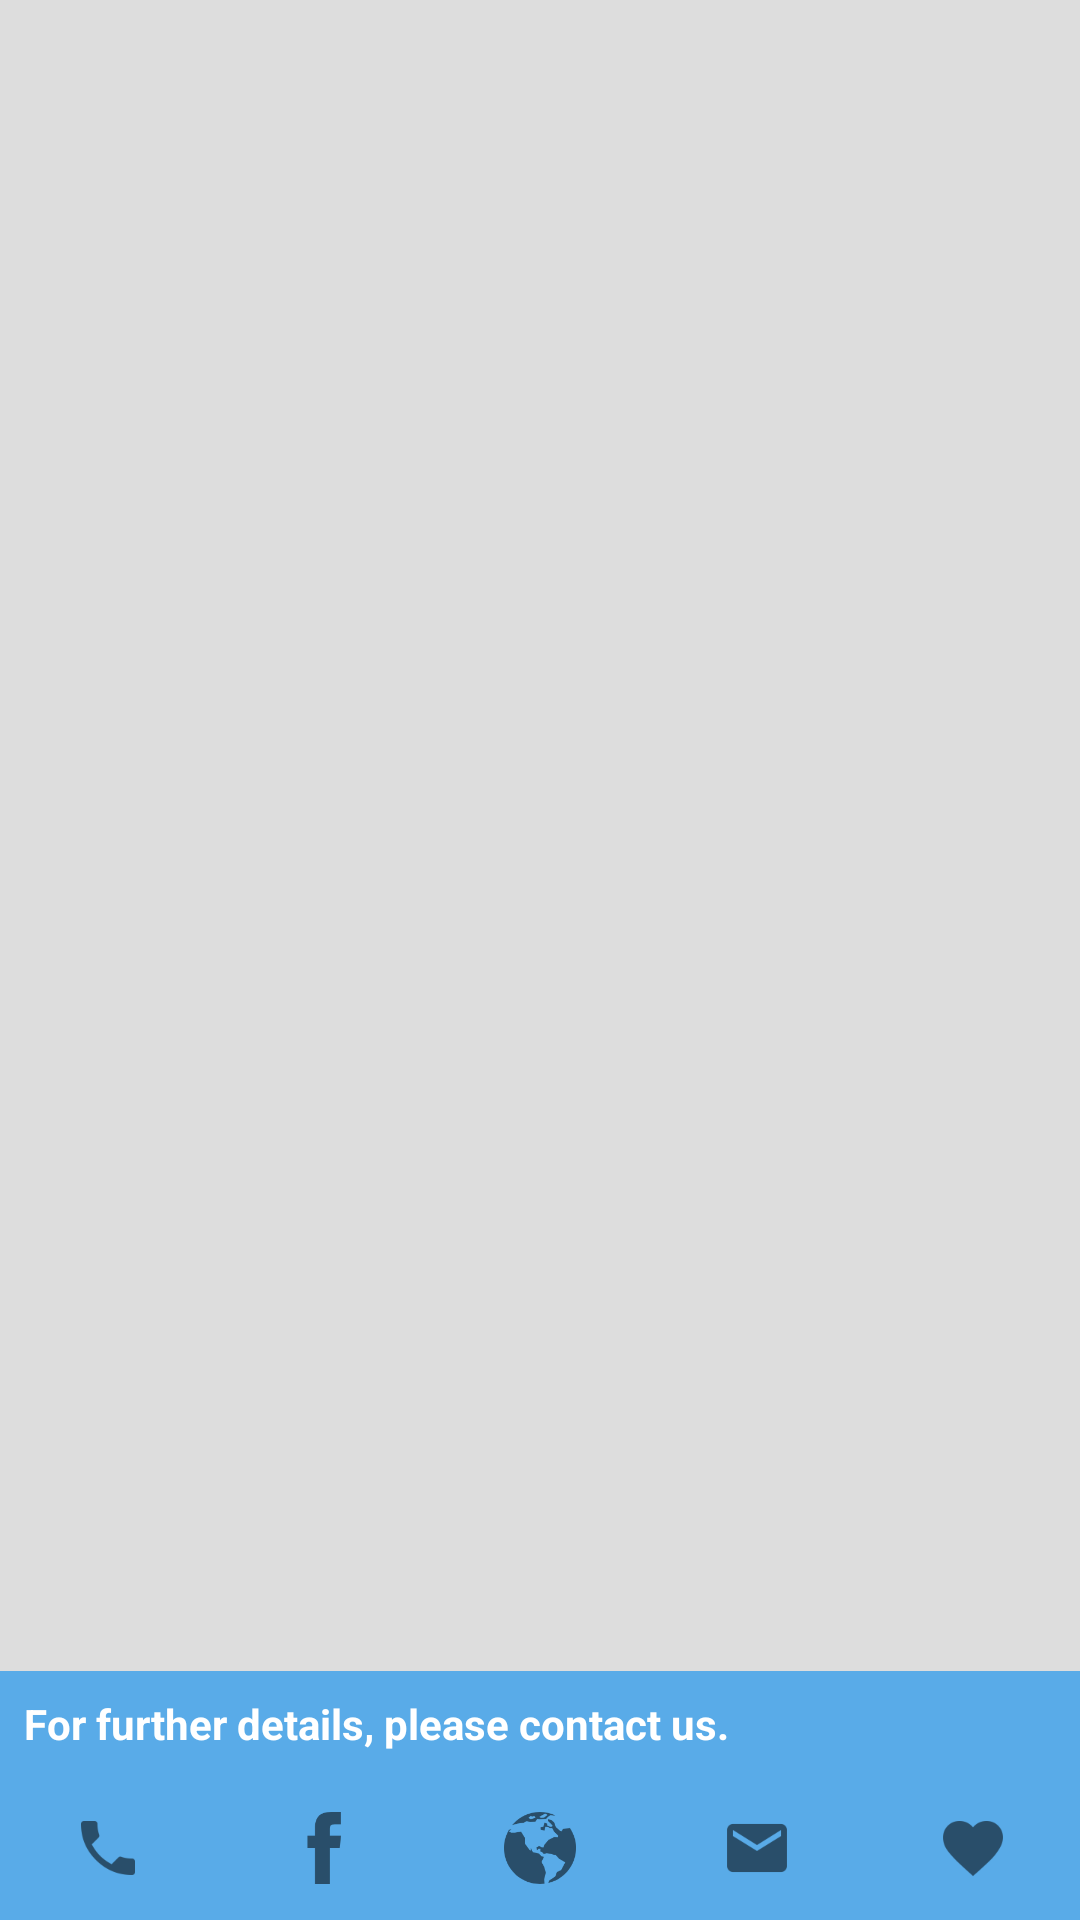

Icon bounding boxes for this 1080px x 1920px phone screenshot, format (x1, y1, x2, y2):
email: (727, 1824, 787, 1872)
favorite: (943, 1821, 1003, 1876)
phone: (81, 1821, 135, 1875)
